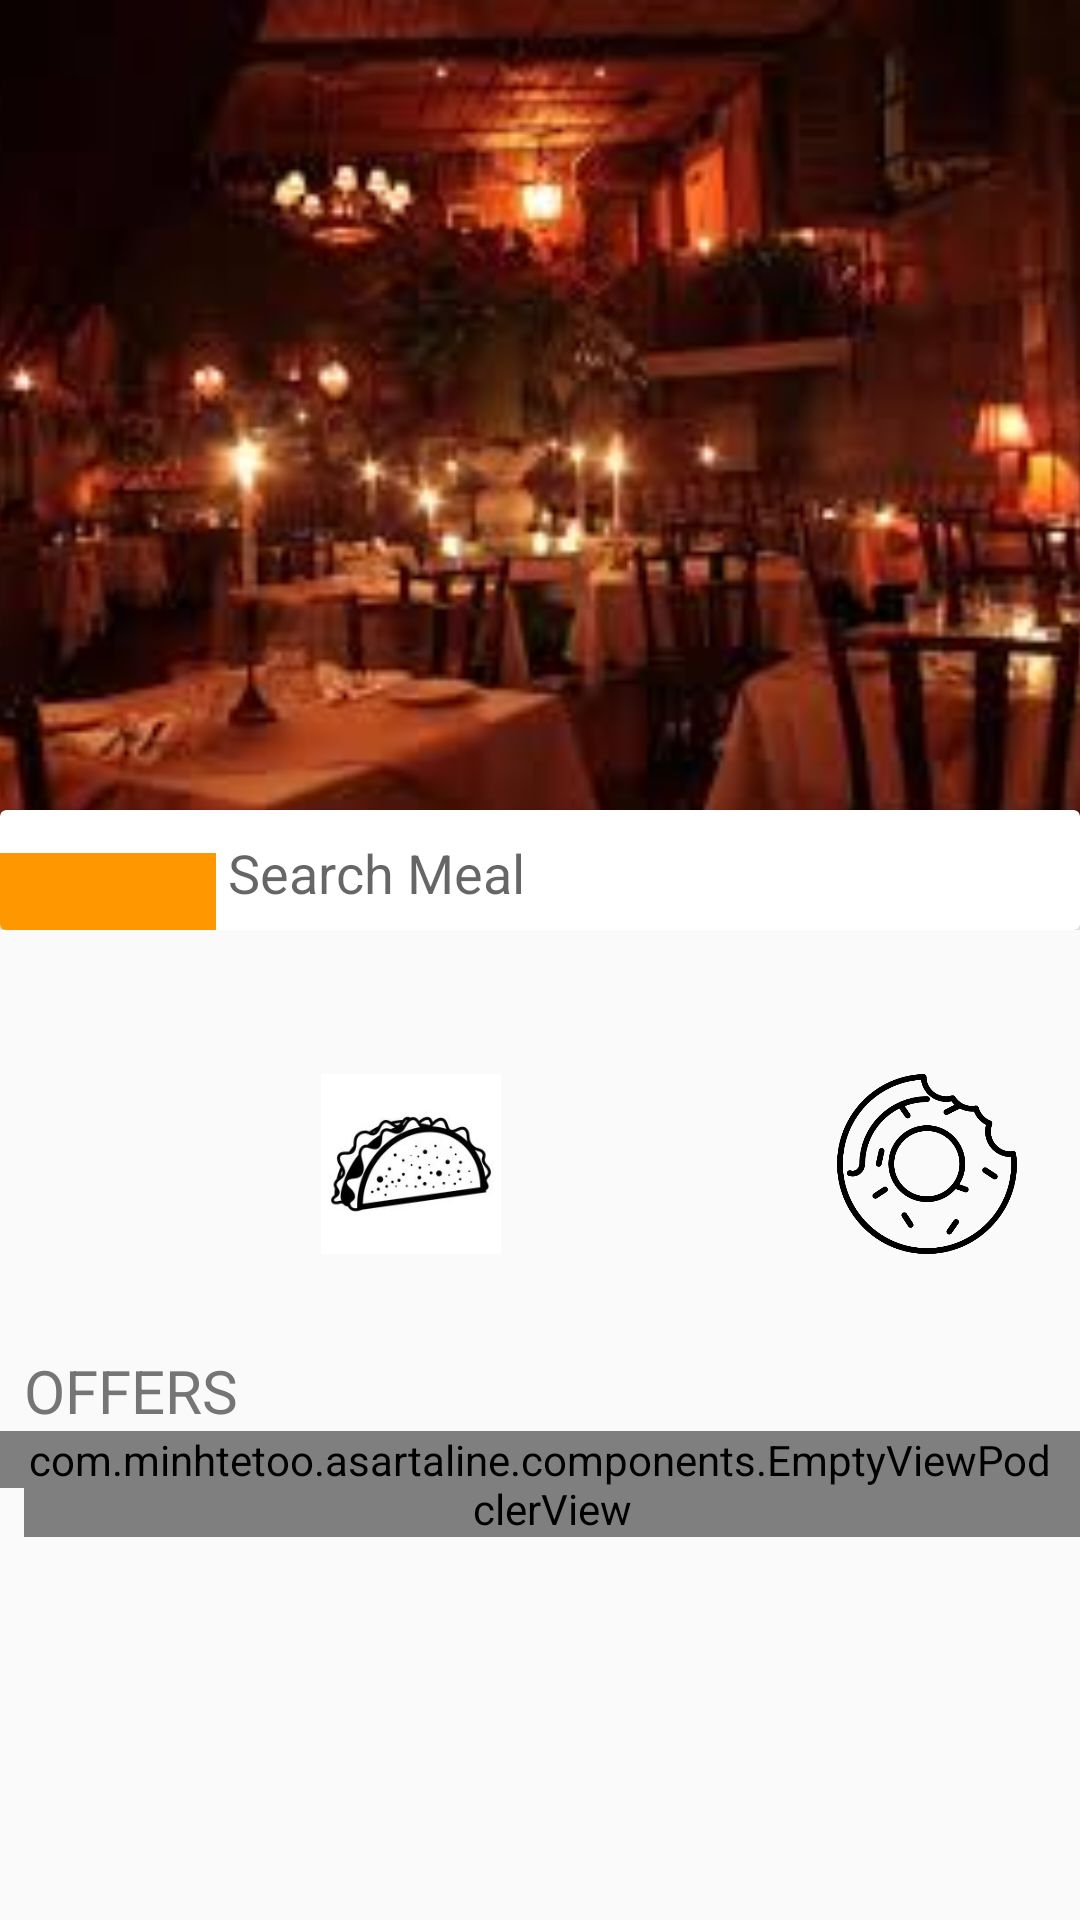

Icons on this 1080px x 1920px Android screen, each with the point to tap as point (x, y):
donut: point (927, 1164)
tacos: point (411, 1164)
